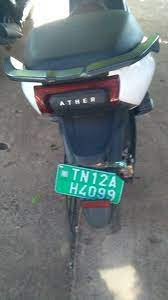Number plates: (49, 161, 127, 206)
